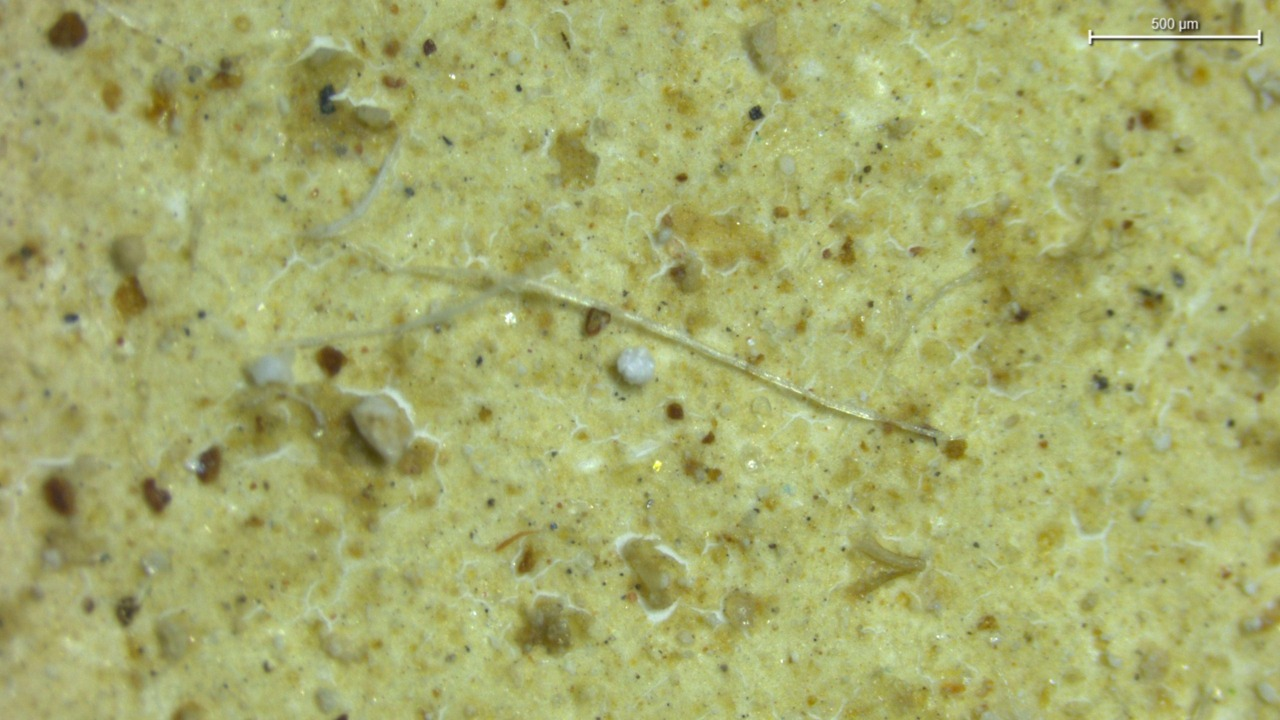microplastic_fragment: (350, 395, 413, 462), (247, 354, 293, 386), (617, 347, 655, 385)
